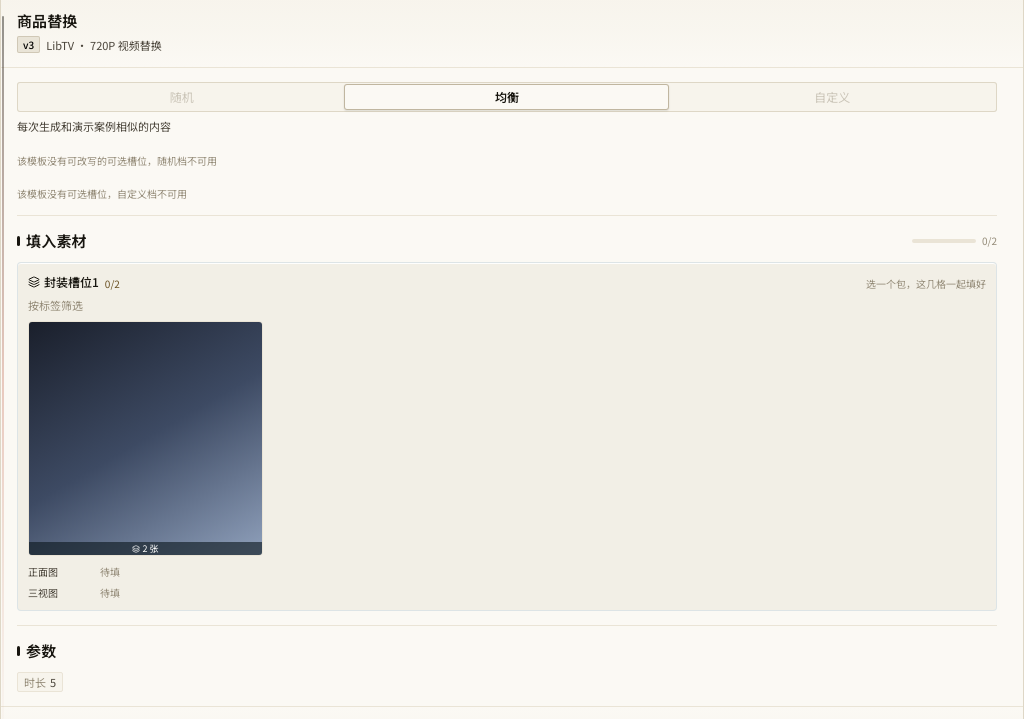
Scenario: 模板库 · 点封装包填多格 › 同一视角有多张时不猜，两个槽位都不填
The image size is (1024, 719).
(page scrolled)
Click the button titled "6036 黑（封装 · 2 张）" at (146, 439), box top-left (28, 321), bottom-right (263, 556)
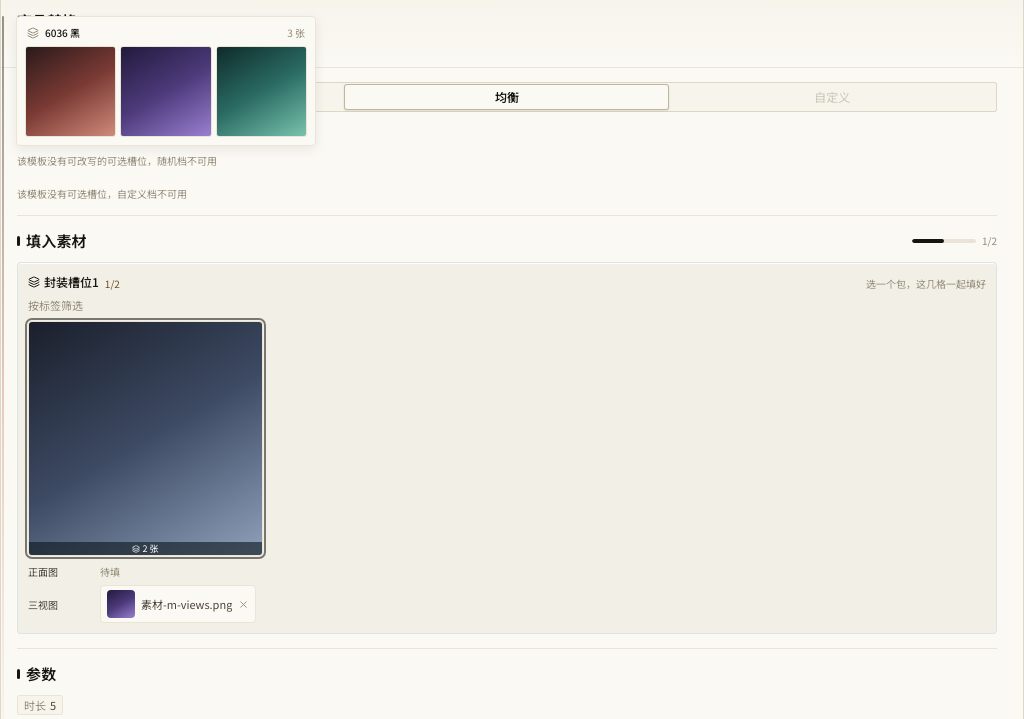
expect the text "素材-m-views.png" is shown: met, box top-left (141, 596), bottom-right (232, 612)
